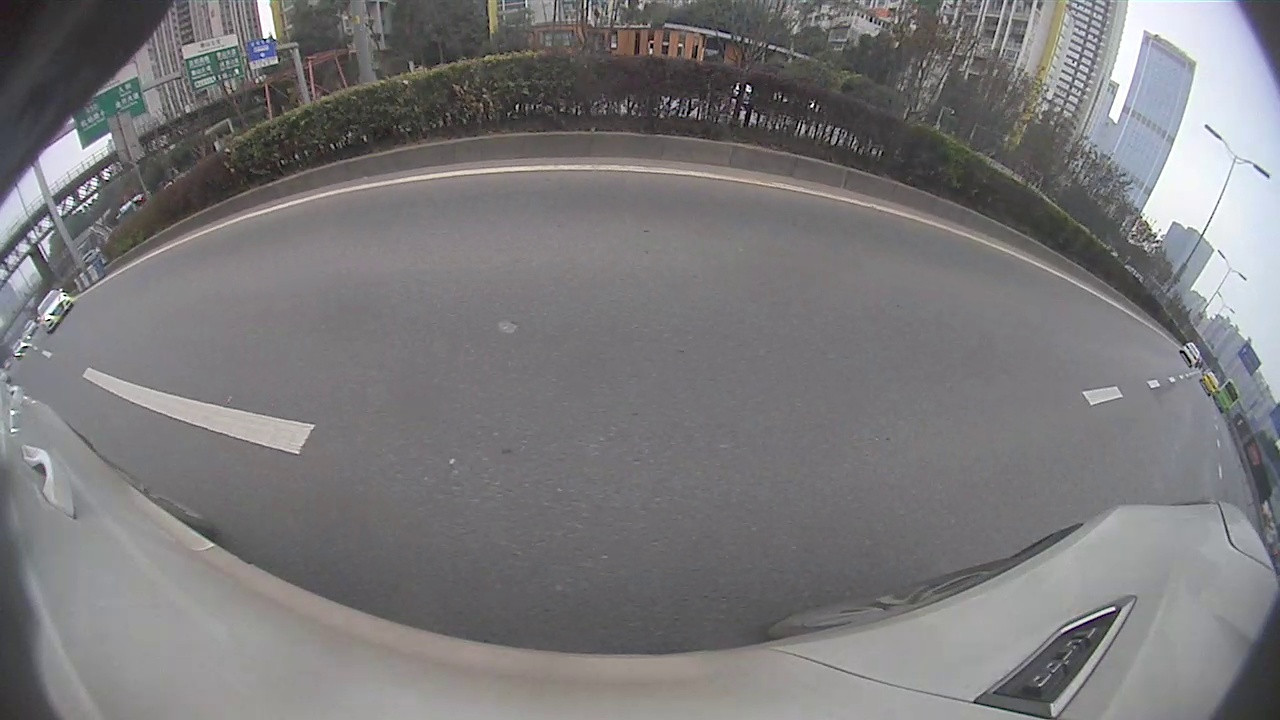bus: (1216, 373, 1241, 420)
car: (33, 286, 76, 336), (1178, 338, 1205, 371), (1199, 369, 1221, 399)
